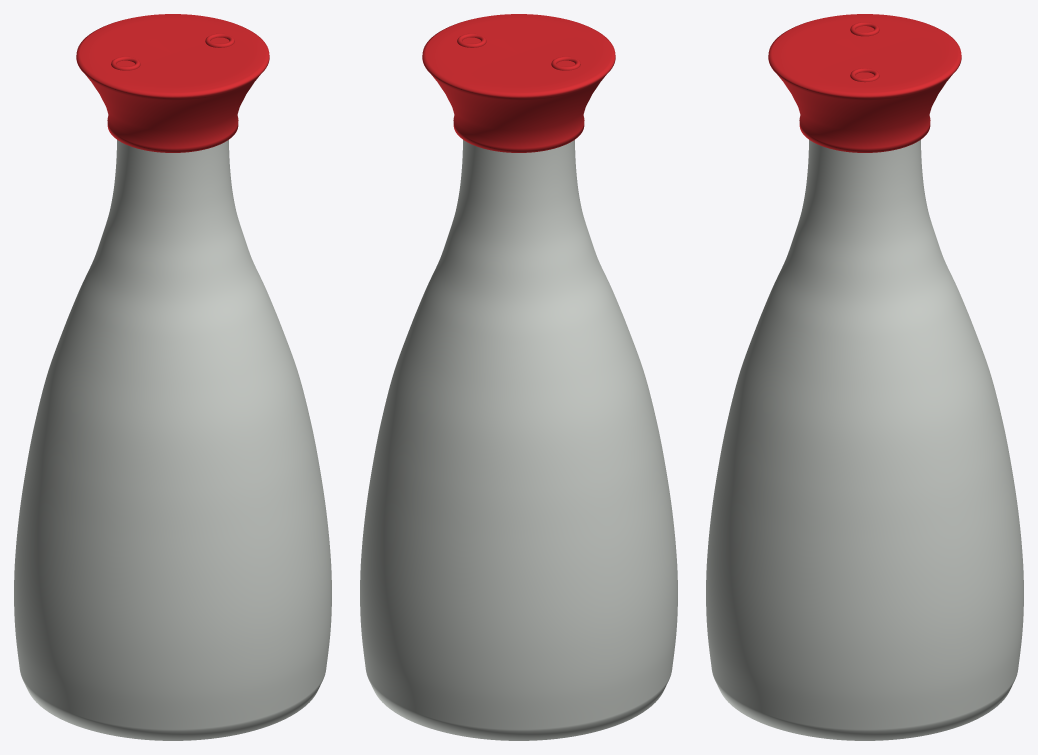
The model's file is sojasaucen-flasche_V2.glb.
The picture shows the model from 3 angles, left to right: view 1: azimuth 30°, elevation 25°; view 2: azimuth 150°, elevation 25°; view 3: azimuth 270°, elevation 25°; orthographic projection.
Parts seen in each view (by area): view 1: bottle_glass, cap; view 2: bottle_glass, cap; view 3: bottle_glass, cap.
Boxes of the visible parts, x1,y1,x2,y2 form: bottle_glass: (14, 140, 331, 740); cap: (76, 14, 269, 152); bottle_glass: (360, 140, 677, 740); cap: (422, 14, 615, 152); bottle_glass: (706, 140, 1023, 740); cap: (768, 14, 961, 152).
Size of the model in its own units: 0.0643 by 0.141 by 0.0643.
